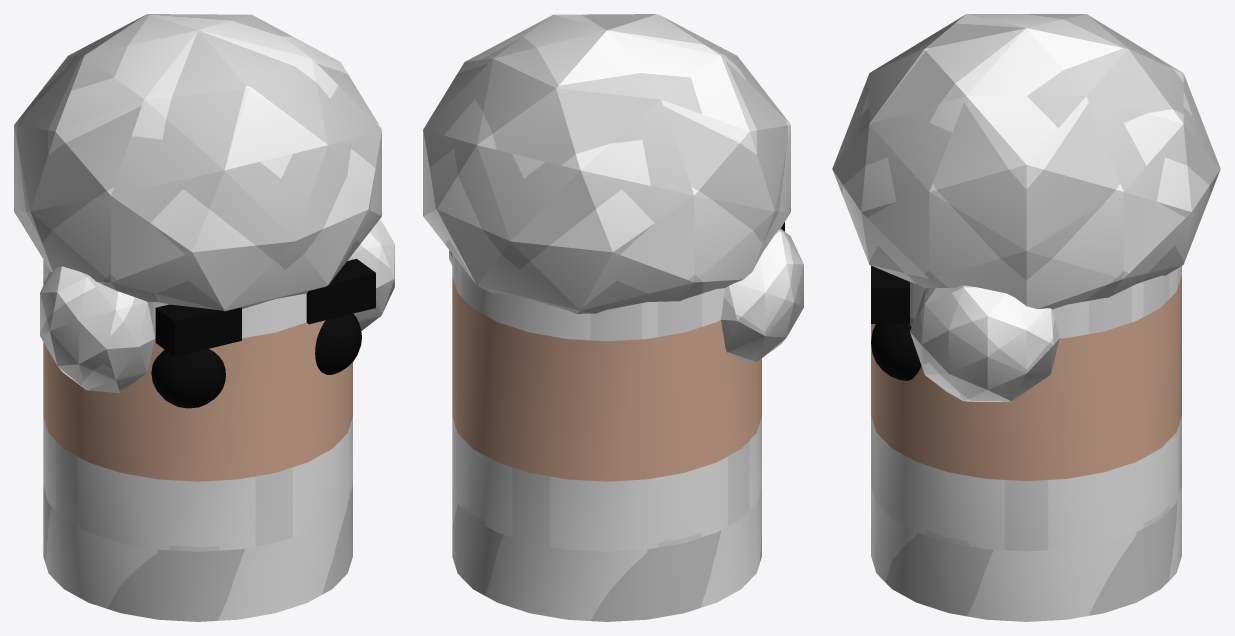
Rendered from Character1.obj.
3 renders of one model, left to right at view 1: azimuth 30°, elevation 25°; view 2: azimuth 150°, elevation 25°; view 3: azimuth 270°, elevation 25°, orthographic.
Size of the model in its own units: 1 by 1.5 by 1.
5 materials, 3 textured.
